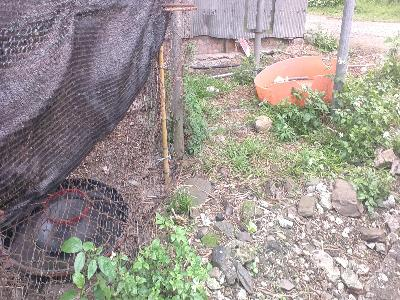bowl: (252, 54, 339, 107)
